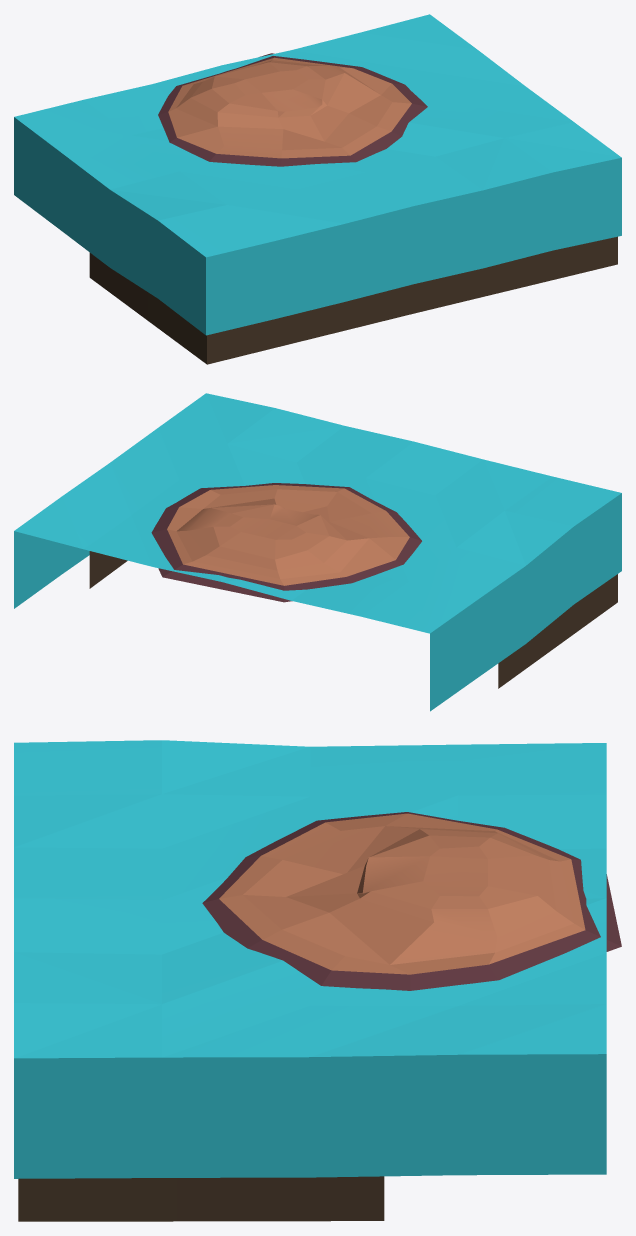
The model's file is world-island-brazil.fbx.
3 renders of one model, top to bottom at view 1: azimuth 30°, elevation 25°; view 2: azimuth 150°, elevation 25°; view 3: azimuth 270°, elevation 25°, orthographic. The views are drawn at different scales.
Visible parts, largest first — view 1: world-island; view 2: world-island; view 3: world-island.
Part boxes in pixels (bbox=[...]): world-island: bbox=[14, 14, 621, 364]; world-island: bbox=[14, 393, 621, 711]; world-island: bbox=[14, 740, 621, 1221].
Size of the model in its own units: 2000 by 593 by 1642.
